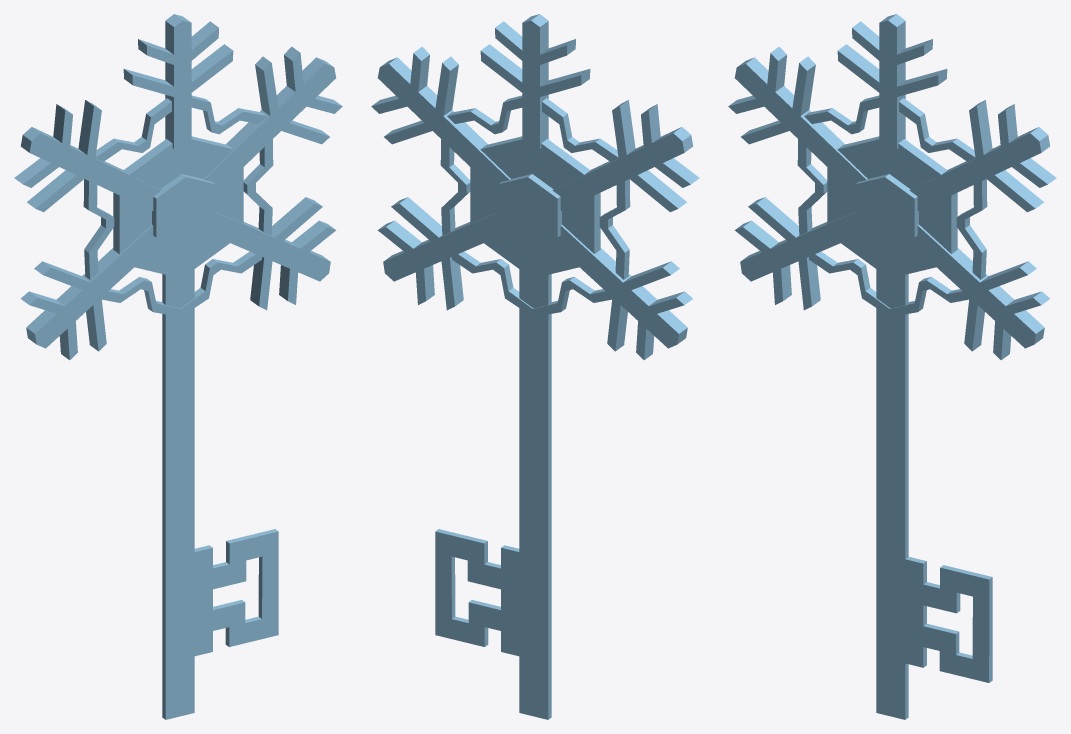
The model's file is Key.fbx.
The picture shows the model from 3 angles, left to right: view 1: azimuth 30°, elevation 25°; view 2: azimuth 150°, elevation 25°; view 3: azimuth 330°, elevation 25°; orthographic projection.
Parts seen in each view (by area): view 1: Cube; view 2: Cube; view 3: Cube.
Part boxes in pixels (left/top/right/bottom): Cube: left=14, top=14, right=342, bottom=719; Cube: left=371, top=14, right=699, bottom=719; Cube: left=728, top=14, right=1056, bottom=719.
Bounding box in the file's own units: 193 × 401 × 15.62.
